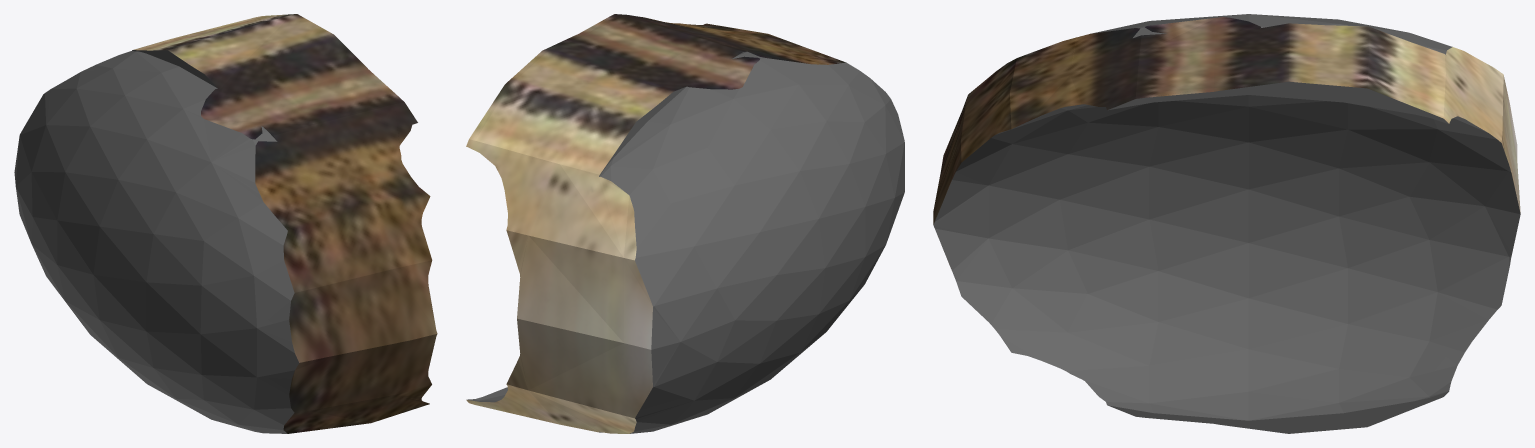
3 renders of one model, left to right at view 1: azimuth 30°, elevation 25°; view 2: azimuth 150°, elevation 25°; view 3: azimuth 270°, elevation 25°, orthographic. The views are drawn at different scales.
Parts seen in each view (by area): view 1: link_4_visual; view 2: link_4_visual; view 3: link_4_visual.
Part boxes in pixels (x1,y1,x2,y2): link_4_visual: (14,14,437,433); link_4_visual: (466,14,904,433); link_4_visual: (933,14,1520,433).
Size of the model in its own units: 0.00181 by 0.00219 by 0.0033.
Materials: 1 (1 with a texture image).
